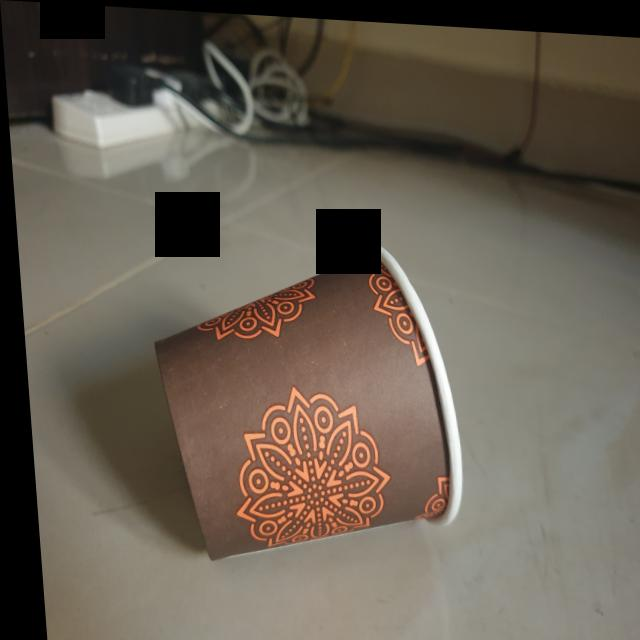cups: (133, 220, 471, 580)
